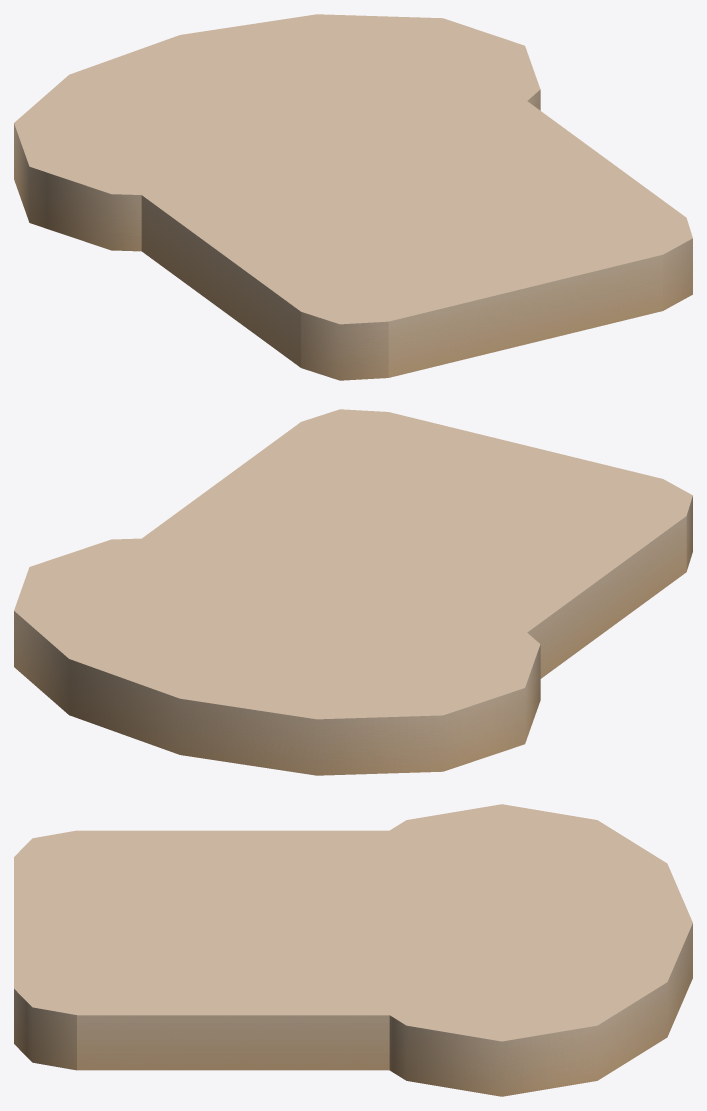
The model's file is Item_Bread.glb.
The picture shows the model from 3 angles, top to bottom: view 1: azimuth 30°, elevation 25°; view 2: azimuth 150°, elevation 25°; view 3: azimuth 270°, elevation 25°; orthographic projection.
Visible parts, largest first — view 1: Item_Bread; view 2: Item_Bread; view 3: Item_Bread.
Part boxes in pixels (left/top/right/bottom): Item_Bread: left=14, top=14, right=692, bottom=380; Item_Bread: left=14, top=409, right=692, bottom=775; Item_Bread: left=14, top=804, right=692, bottom=1096.
Size of the model in its own units: 0.3659 by 0.0397 by 0.4423.
Materials: 1 (1 with a texture image).
